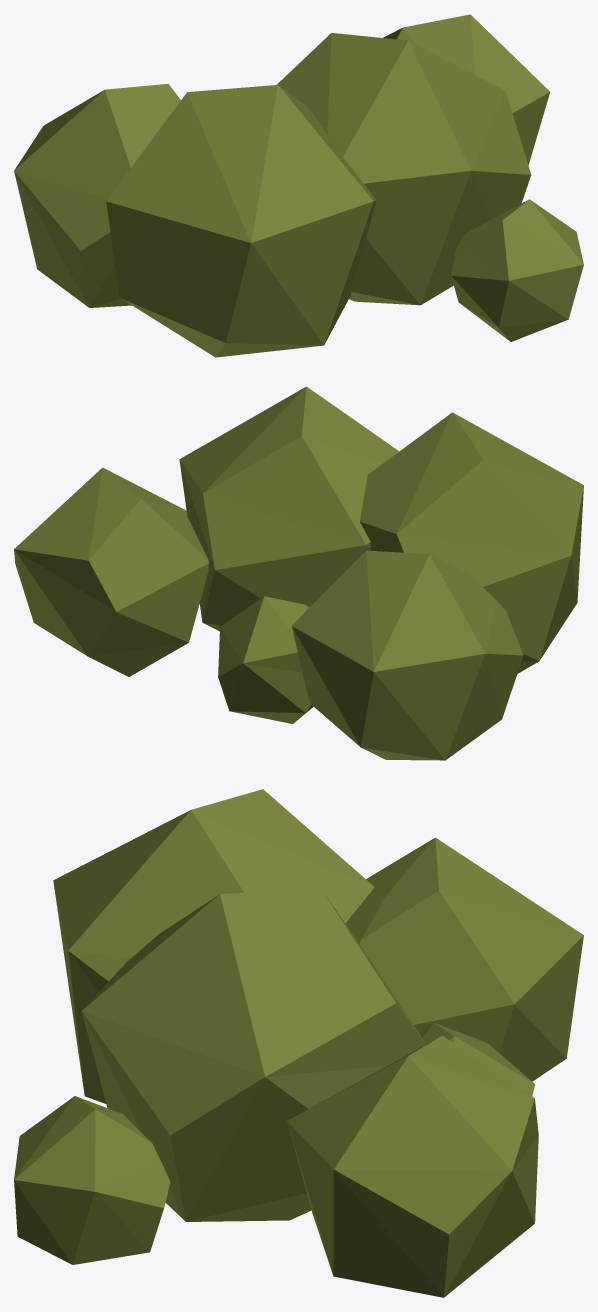
File: bush.fbx
The picture shows the model from 3 angles, top to bottom: view 1: azimuth 30°, elevation 25°; view 2: azimuth 150°, elevation 25°; view 3: azimuth 270°, elevation 25°; orthographic projection. The views are drawn at different scales.
Visible parts, largest first — view 1: bush; view 2: bush; view 3: bush.
Boxes of the visible parts, left/top/right/bottom form: bush: left=14, top=14, right=583, bottom=357; bush: left=14, top=386, right=583, bottom=760; bush: left=14, top=789, right=583, bottom=1297.
Size of the model in its own units: 103 by 56.03 by 81.6.
